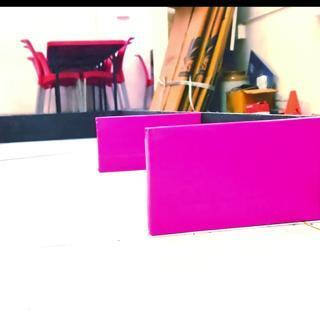xparking: (149, 127, 320, 227), (98, 118, 144, 170)
